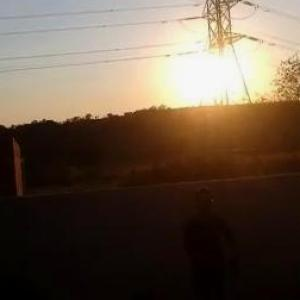follow: (179, 176, 251, 299)
